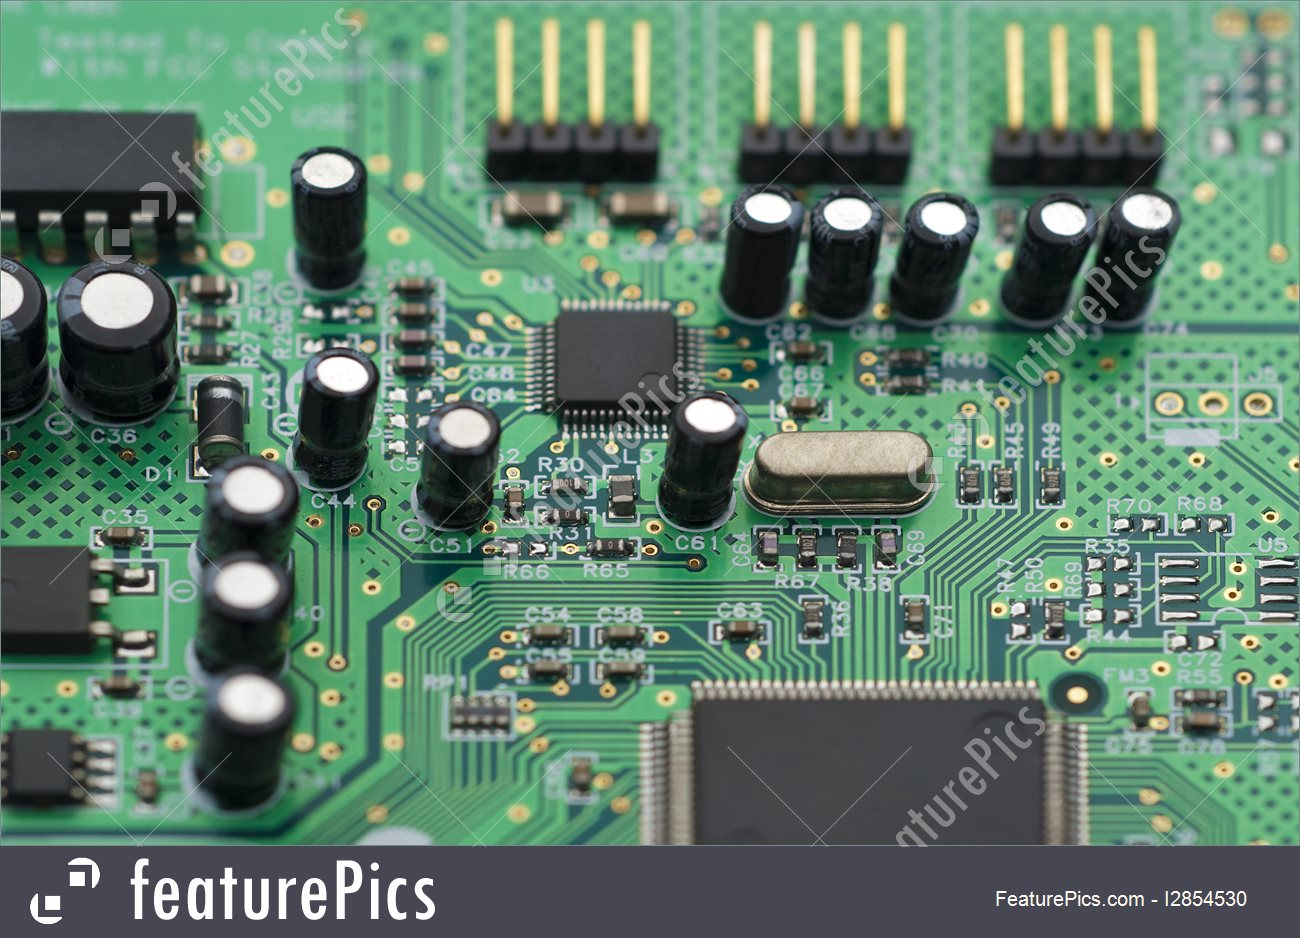capacitor: (45, 252, 198, 431), (632, 382, 767, 551), (272, 132, 394, 313), (292, 324, 392, 522), (884, 165, 986, 354), (1000, 180, 1096, 350), (412, 388, 514, 546), (1099, 175, 1193, 344), (191, 665, 304, 802), (719, 181, 810, 340), (188, 555, 313, 668), (804, 178, 889, 341), (206, 456, 303, 552)
